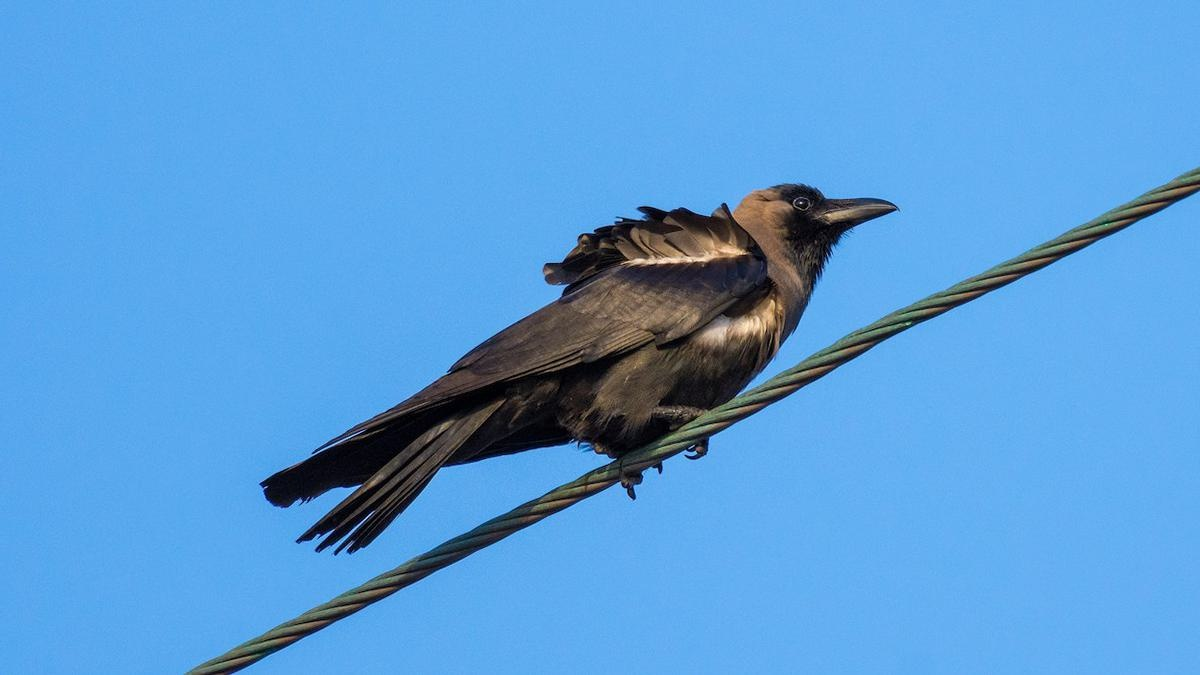crow: (259, 170, 915, 565)
